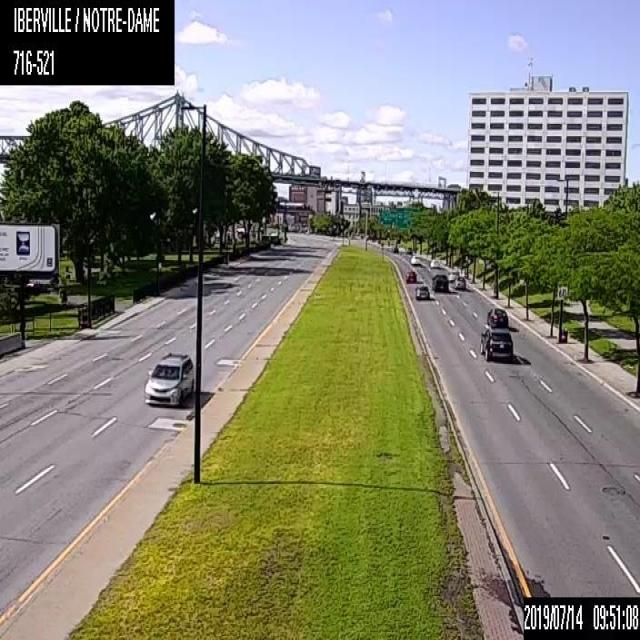vehicle: (143, 350, 195, 406), (478, 327, 513, 361), (486, 307, 508, 327), (430, 274, 448, 292), (414, 286, 429, 300), (453, 275, 465, 290), (404, 269, 416, 282), (410, 253, 422, 265), (447, 269, 457, 281), (429, 257, 440, 267), (392, 242, 398, 252), (405, 247, 412, 254)
